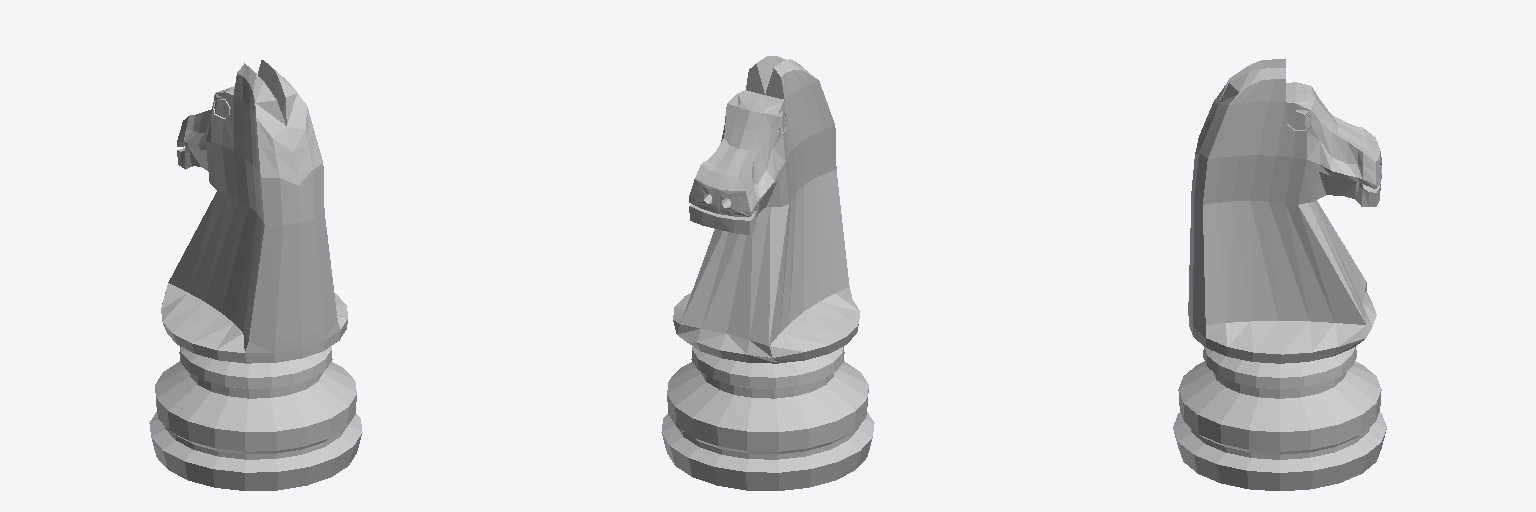
File: whiteHorse.obj
3 views of the same model, side by side, from view 1: azimuth 30°, elevation 25°; view 2: azimuth 150°, elevation 25°; view 3: azimuth 270°, elevation 25° (orthographic).
Visible parts, largest first — view 1: pCylinder14; view 2: pCylinder14; view 3: pCylinder14.
Part boxes in pixels (x1,y1,x2,y2): pCylinder14: (149, 60, 362, 490); pCylinder14: (661, 56, 874, 490); pCylinder14: (1173, 59, 1386, 490).
Bounding box in the file's own units: 0.9482 × 1.88 × 0.9482.